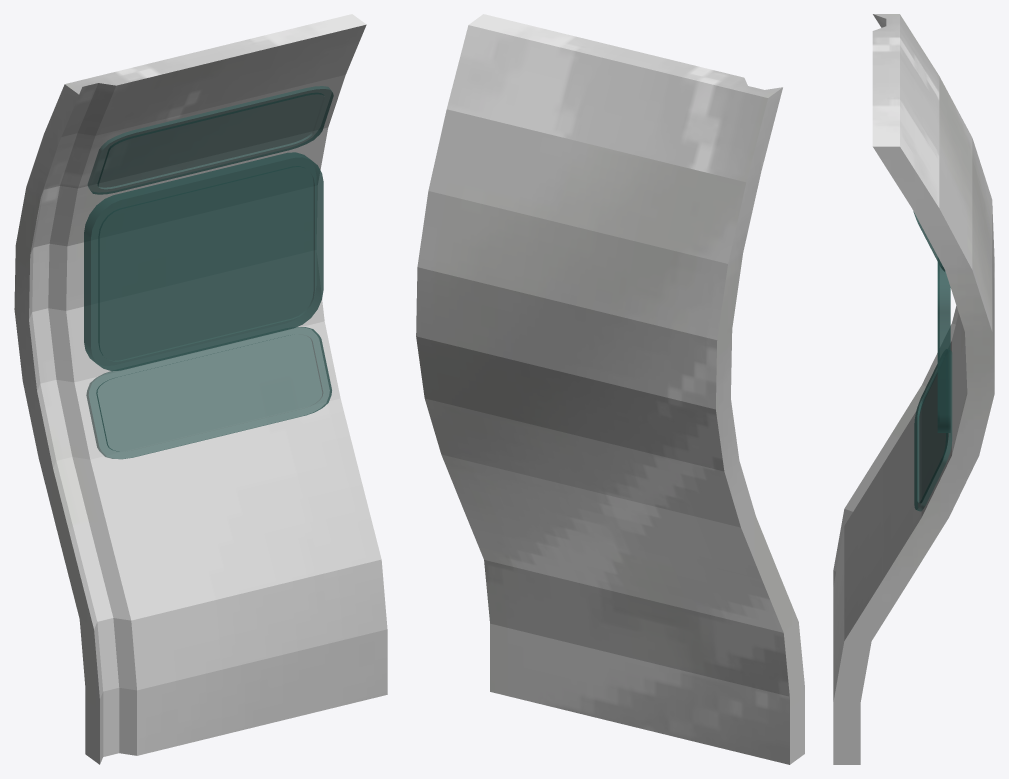
File: LeftHandComputerWall.fbx
3 renders of one model, left to right at view 1: azimuth 30°, elevation 25°; view 2: azimuth 150°, elevation 25°; view 3: azimuth 270°, elevation 25°, orthographic. The views are drawn at different scales.
Parts seen in each view (by area): view 1: pCube262, pCube251; view 2: pCube262; view 3: pCube262, pCube251.
Boxes of the visible parts, x1=… form: pCube262: x1=14, y1=14, x2=387, y2=764; pCube251: x1=84, y1=86, x2=333, y2=459; pCube262: x1=416, y1=14, x2=804, y2=764; pCube262: x1=833, y1=14, x2=994, y2=764; pCube251: x1=913, y1=211, x2=952, y2=511.
Size of the model in its own units: 287 by 625 by 148.
Materials: 2 (1 with a texture image).
